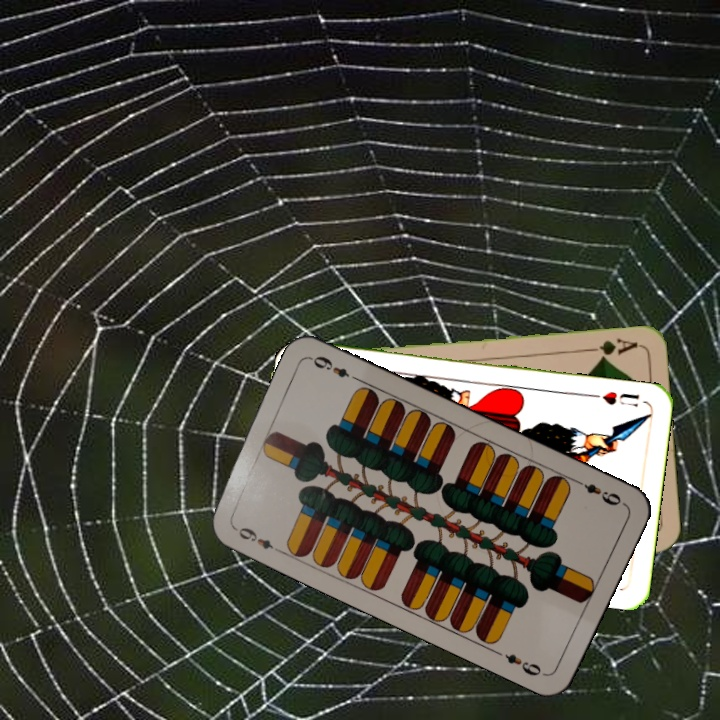E9: (229, 522, 284, 555), (571, 475, 624, 508)
GA: (582, 334, 641, 363)
HU: (588, 387, 642, 409)
